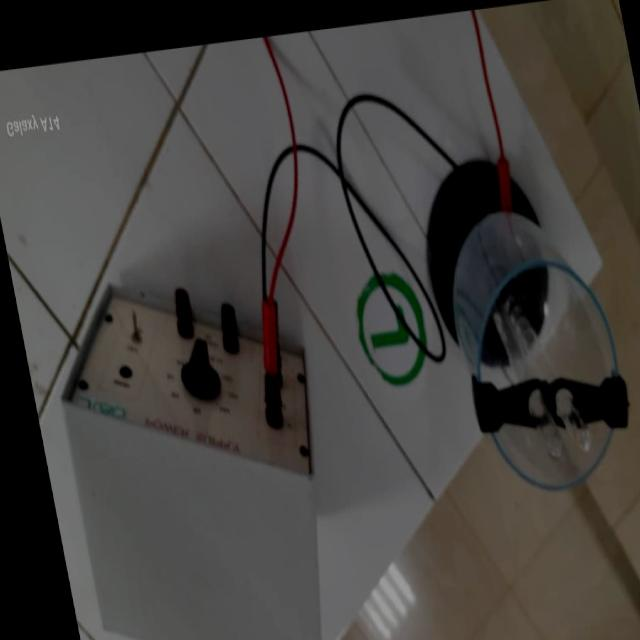Electrolyzer: (404, 140, 640, 505)
